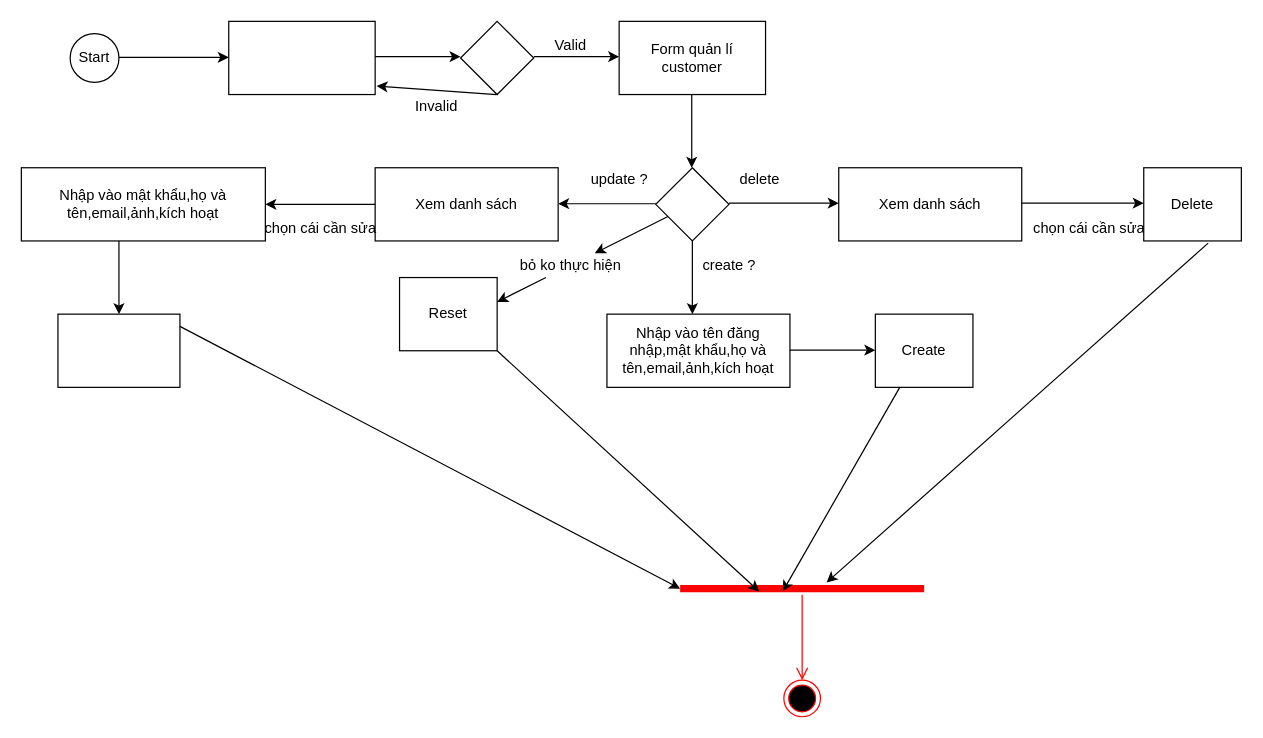
Some shapes in this 1263 by 738 pixel diagram are drawn without their labels. Here are the shapes that lost their labels. From the top down, the box of each, then its label:
(228, 20, 375, 95): Admin login form
(459, 20, 534, 95): Check
(655, 167, 729, 241): Choose
(57, 313, 180, 387): Update
